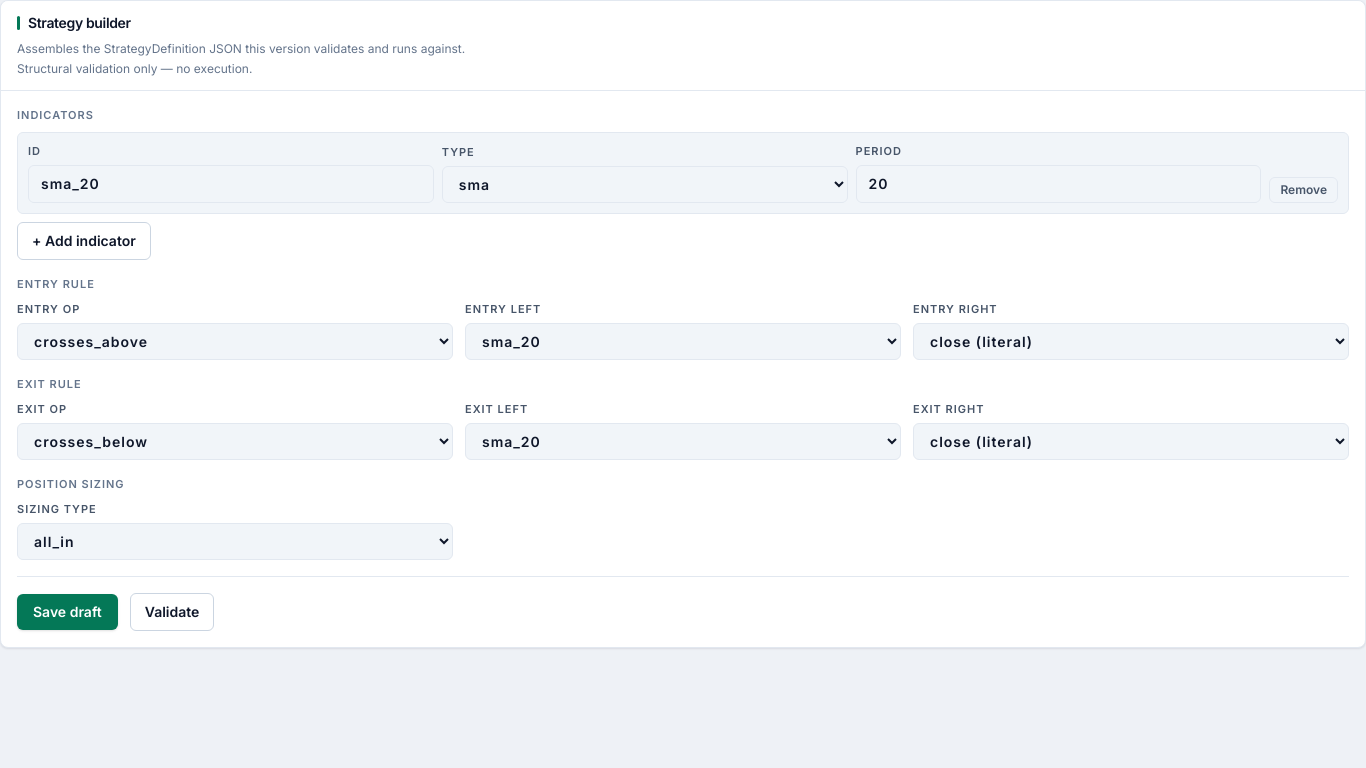
Test: StrategyBuilderForm › PATCHes the full assembled definition on Save draft
The image size is (1366, 768).
Click the button "+ Add indicator" at x=84, y=241, box 17,222 -> 151,260
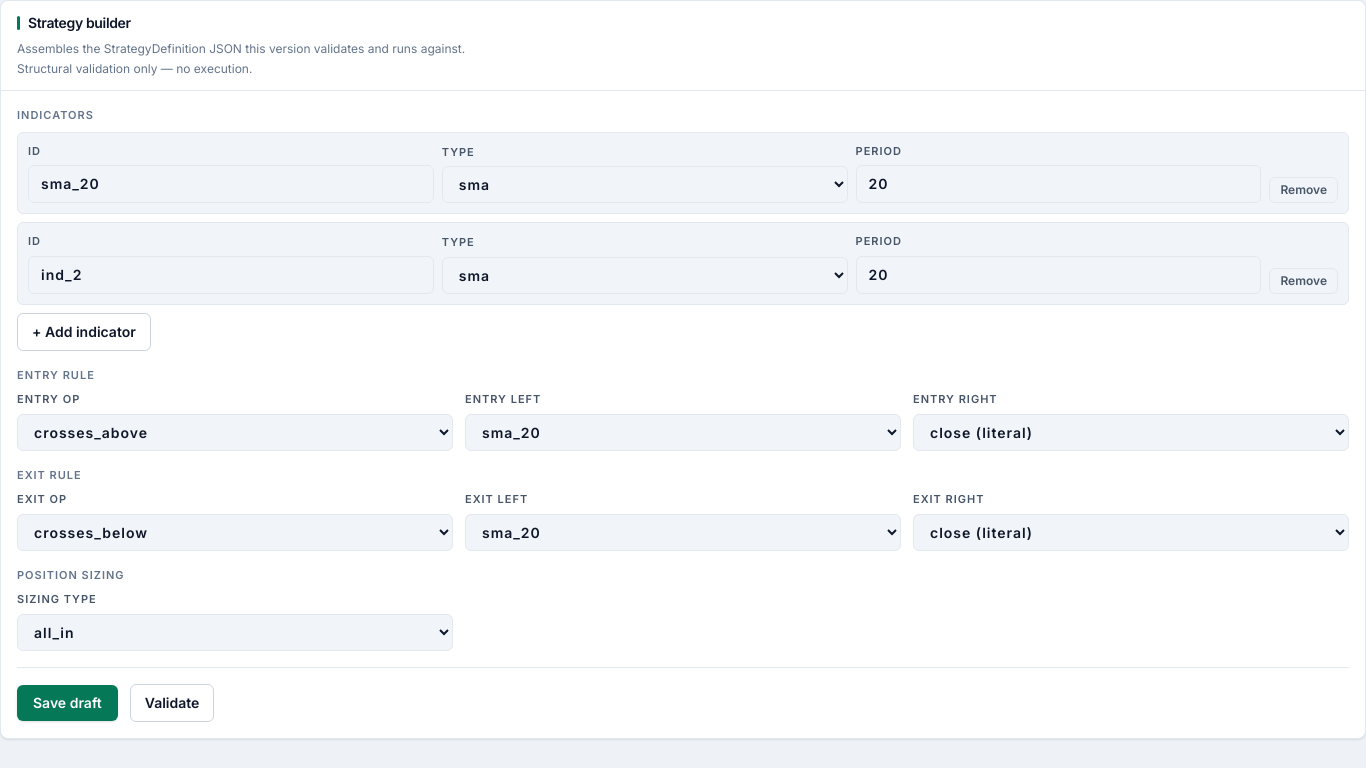
Click the button "Save draft" at x=67, y=702, box 17,684 -> 118,720
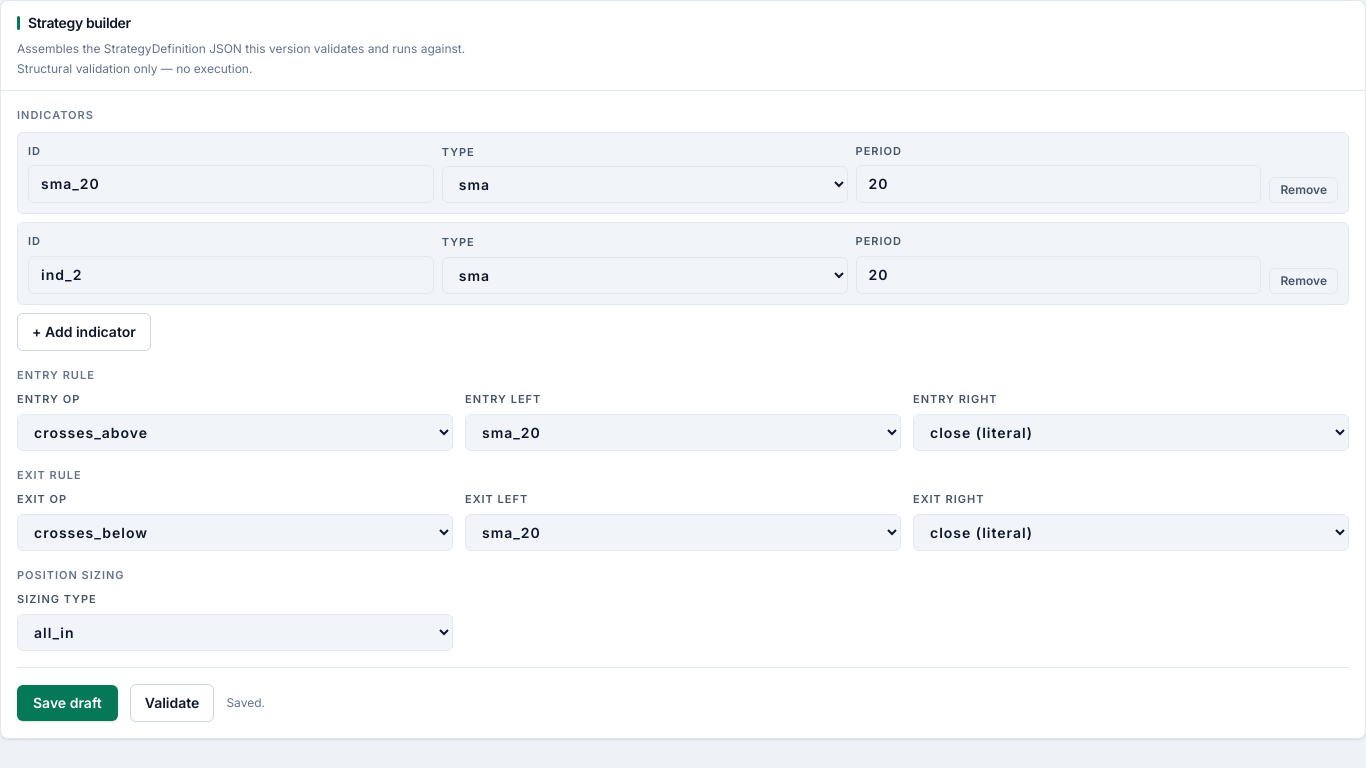
Expected: the text "Saved." is shown, 226,693 -> 265,712
